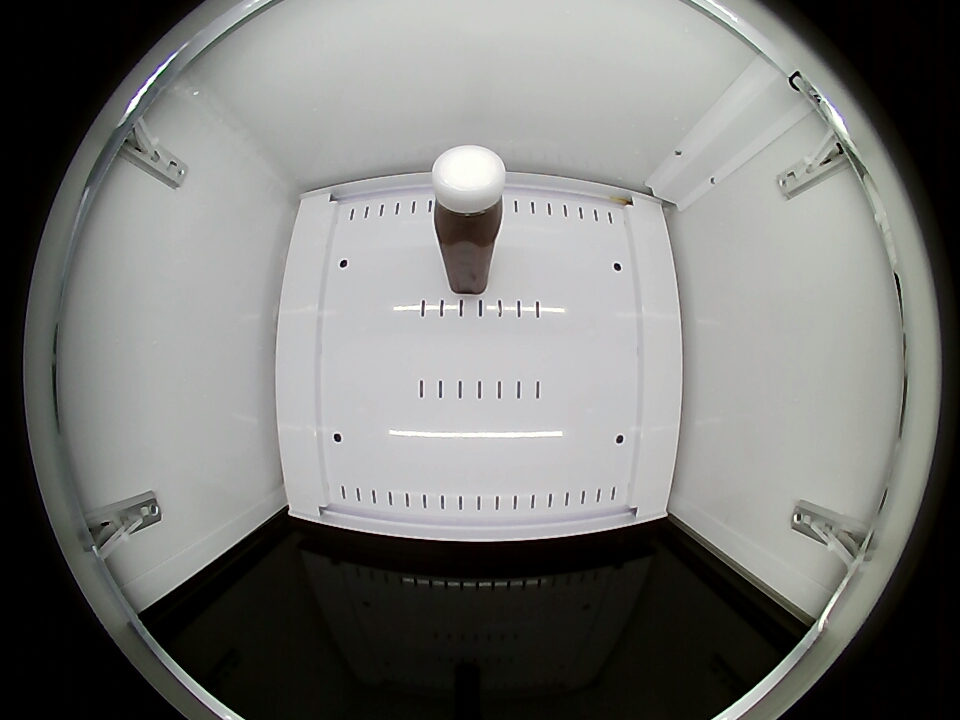youyanggudong: (431, 144, 507, 243)
